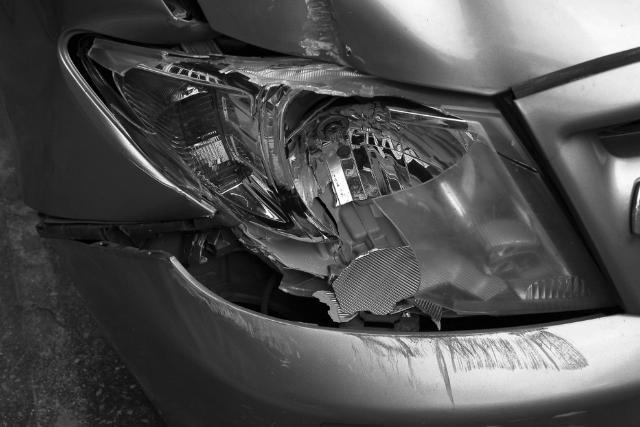Bumper: (50, 221, 619, 413)
Light: (70, 37, 618, 328)
